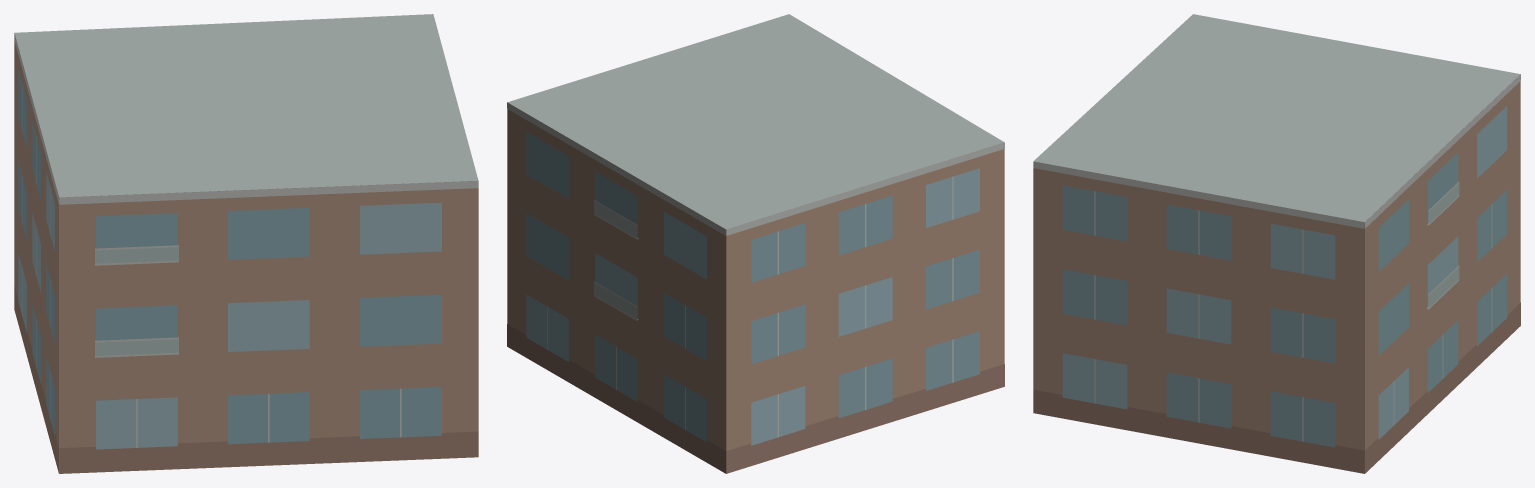
Rendered from survey-upis-32880493.glb.
The picture shows the model from 3 angles, left to right: view 1: azimuth 30°, elevation 25°; view 2: azimuth 150°, elevation 25°; view 3: azimuth 270°, elevation 25°; orthographic projection. The views are drawn at different scales.
Parts seen in each view (by area): view 1: survey-upis-32880493.tmp; view 2: survey-upis-32880493.tmp; view 3: survey-upis-32880493.tmp.
Boxes of the visible parts, x1,y1,x2,y2 form: survey-upis-32880493.tmp: (14,14,478,473); survey-upis-32880493.tmp: (507,14,1004,473); survey-upis-32880493.tmp: (1033,14,1520,473).
Size of the model in its own units: 16.24 by 9.15 by 16.07.
